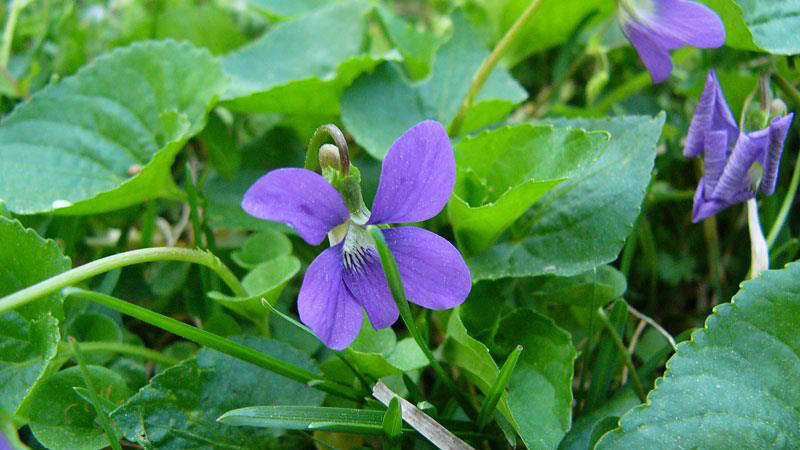violet: (231, 121, 471, 341)
